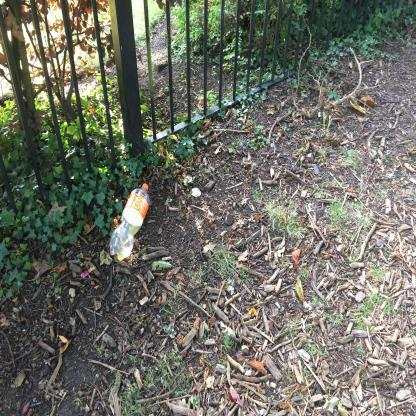plastik: (110, 184, 151, 262)
